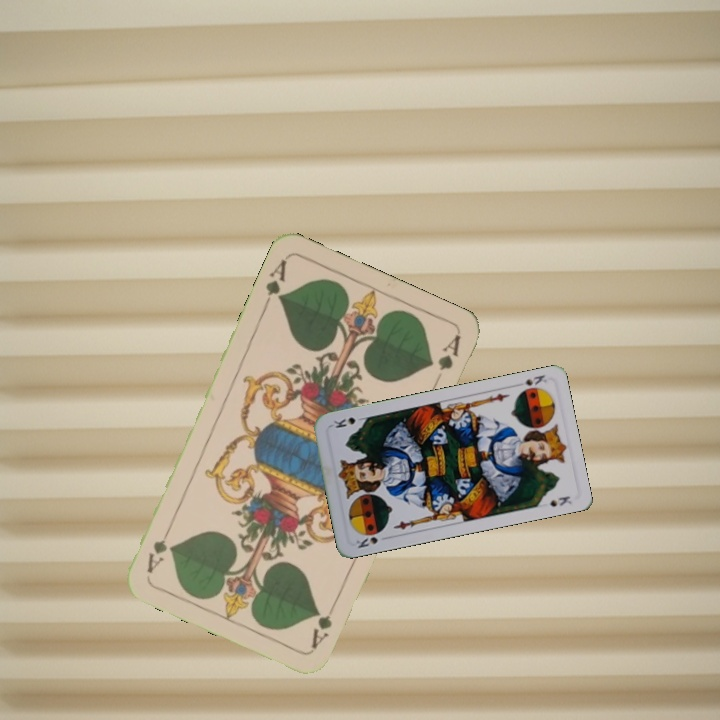GA: (307, 596, 340, 652), (259, 255, 290, 311)
SK: (511, 370, 549, 395), (352, 533, 380, 551)
